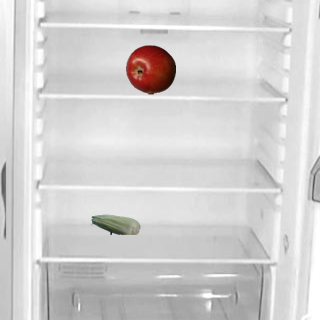Apple Braeburn: (125, 44, 175, 94)
Corn Husk: (90, 199, 140, 249)
